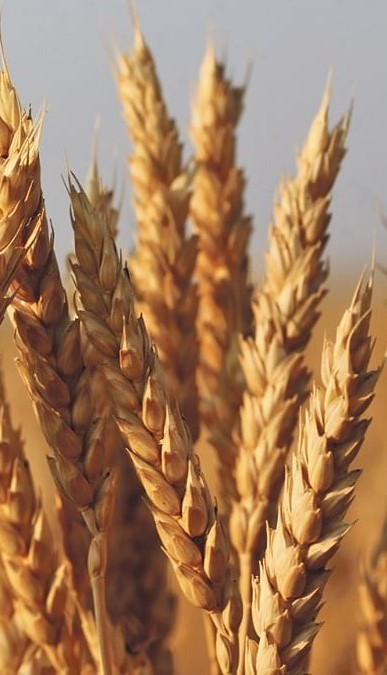Healthy Wheat: (66, 186, 234, 605), (248, 311, 378, 661)
